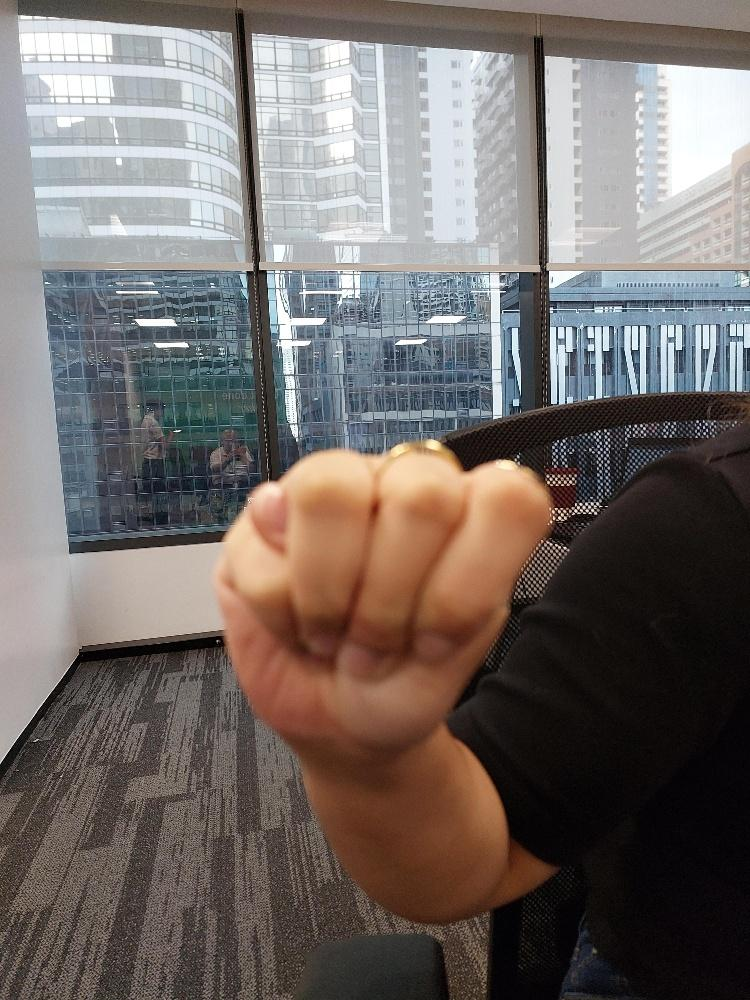m: (211, 434, 556, 769)
